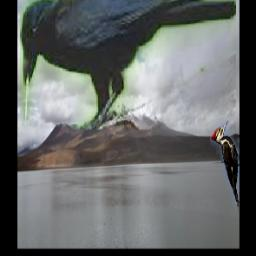Crow: (21, 0, 237, 131)
Woodpecker: (210, 120, 240, 212)
